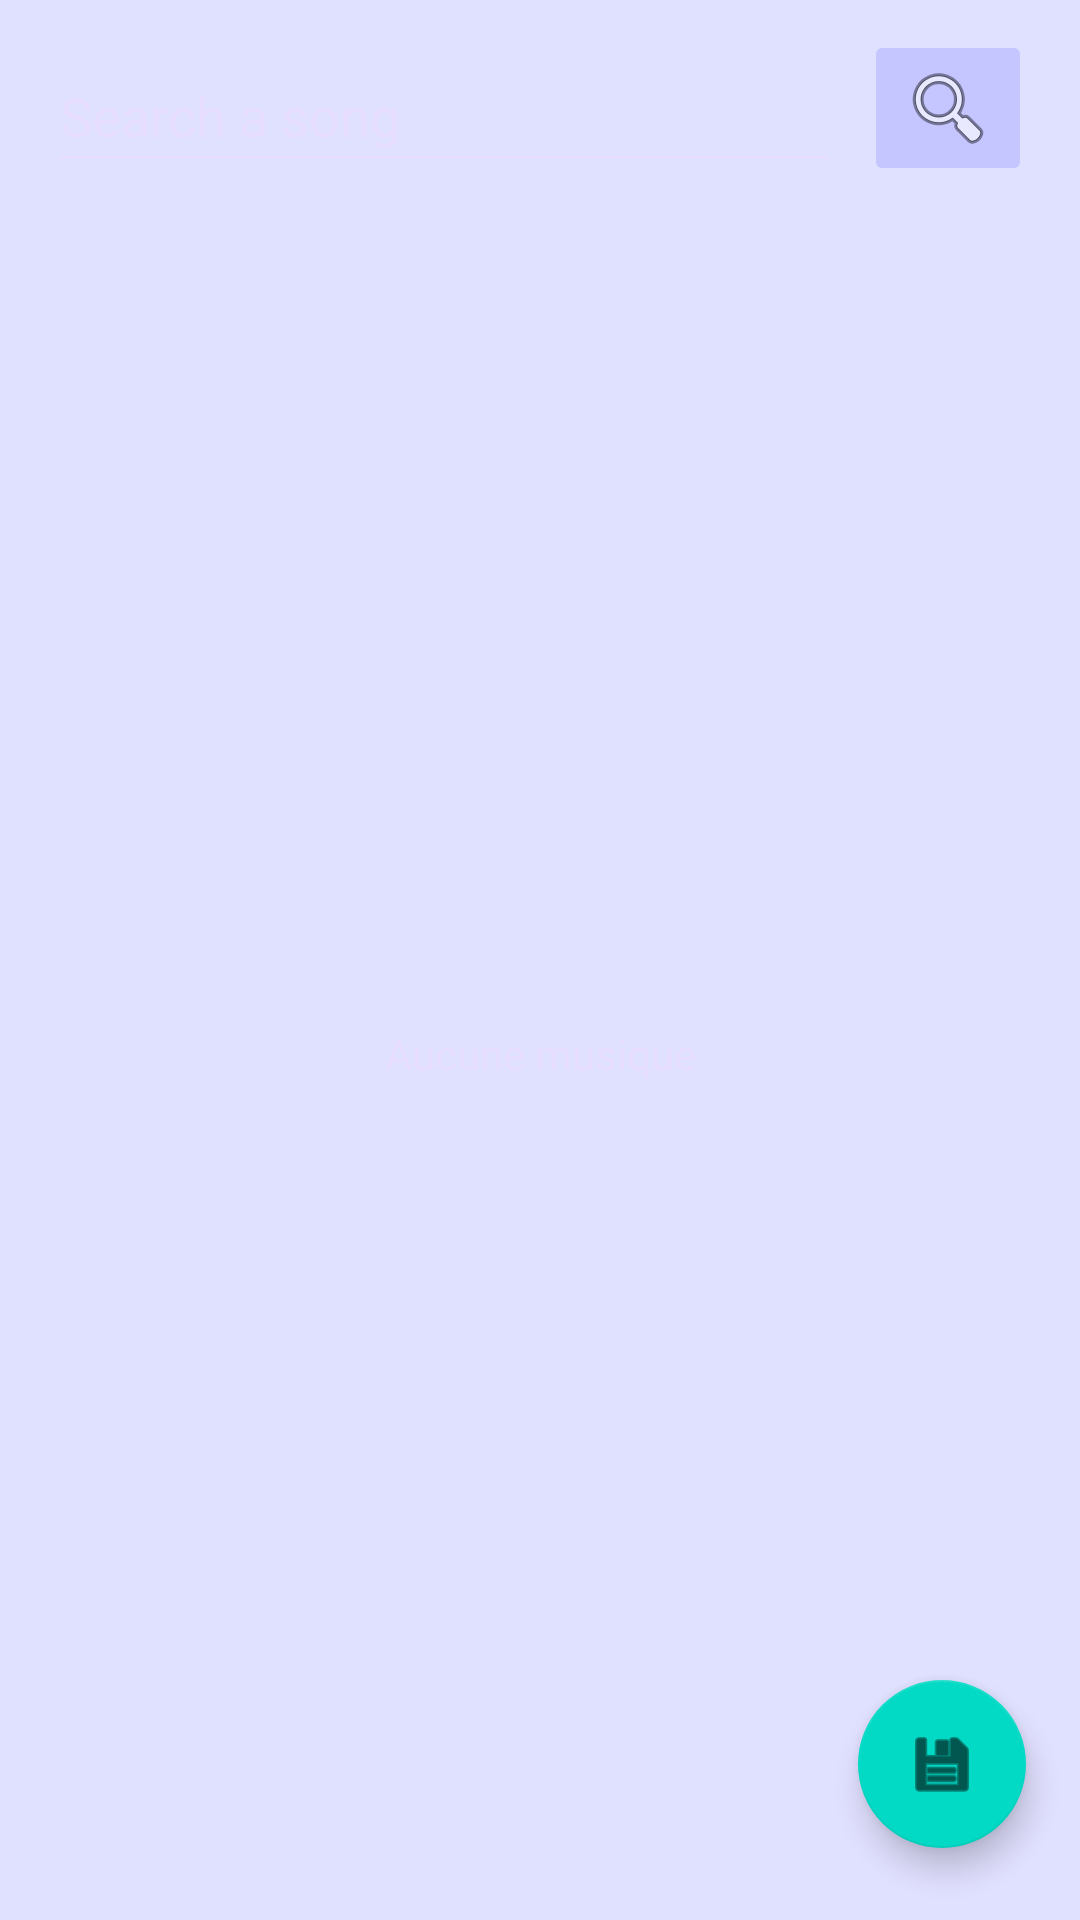

Where icons sit on this 1080x1920 app screen, as (x1, y1, x2, y2):
Save music choose: (858, 1680, 1026, 1848)
Search a music on Spotify: (876, 48, 1020, 168)
